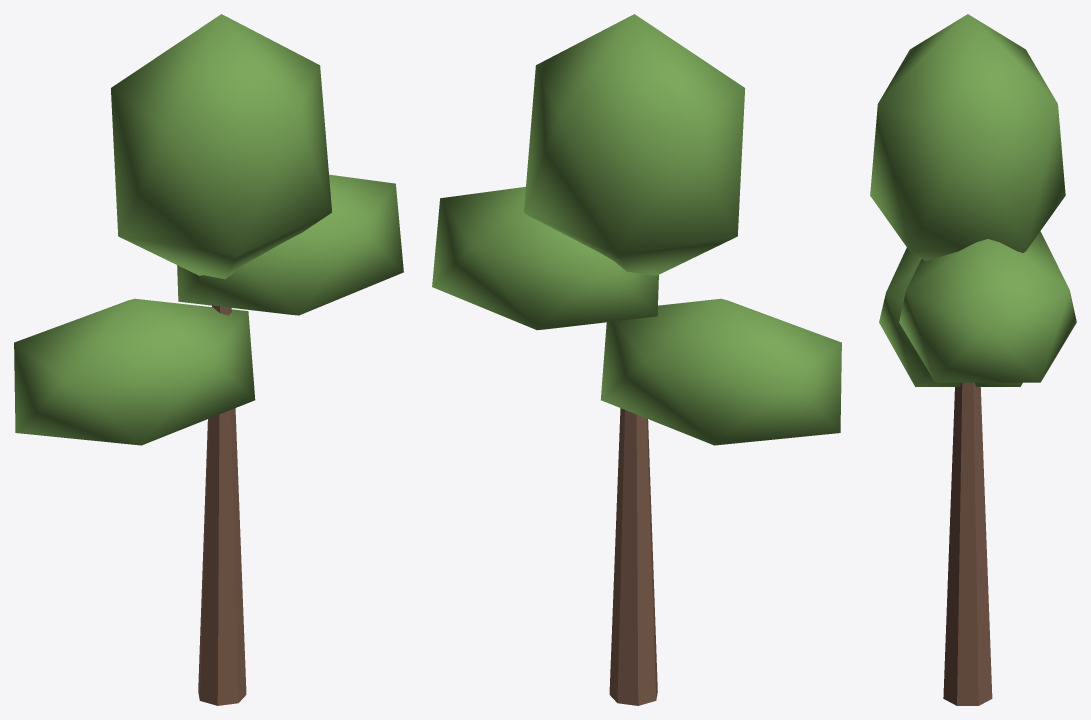
File: sapling_small_01.glb
3 renders of one model, left to right at view 1: azimuth 30°, elevation 25°; view 2: azimuth 150°, elevation 25°; view 3: azimuth 270°, elevation 25°, orthographic.
Visible parts, largest first — view 1: sapling_small_01; view 2: sapling_small_01; view 3: sapling_small_01.
Boxes of the visible parts, x1=… form: sapling_small_01: x1=14, y1=14, x2=403, y2=705; sapling_small_01: x1=432, y1=14, x2=841, y2=705; sapling_small_01: x1=870, y1=14, x2=1076, y2=705.
Bounding box in the file's own units: 0.4796 × 0.8 × 0.2197.
